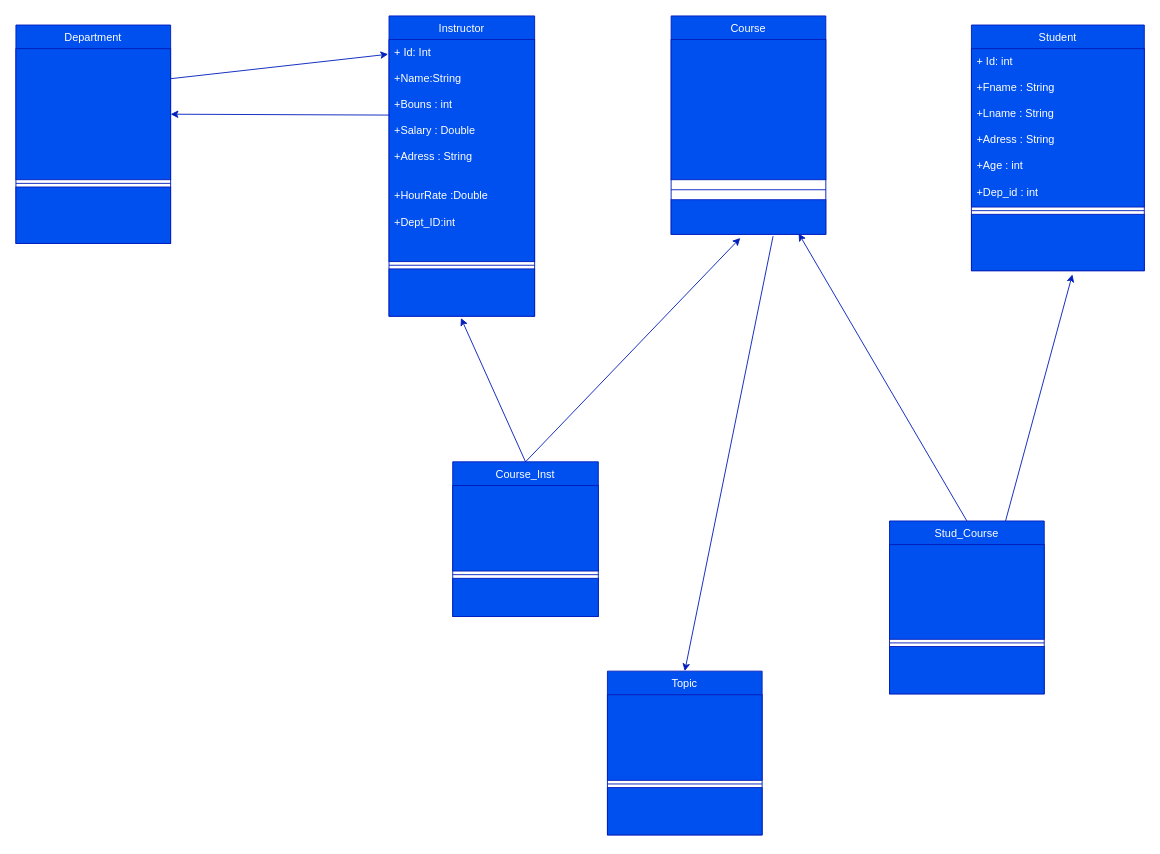
Image size: 1160x854. Some labels were removed from this diagram. Each missing label, with the centre of its shape:
+ Id : int +Duration : DateTime +Name:String +Description :String +Top_Id :int: the point at 748,109
+ Id: int +Name :String +HiringDate : DateTime +Ins_Id :Int: the point at 93,114
+ Id: int +Name:String: the point at 684,737
+ inst_ID : int +Course_ID : int + evaluate : int: the point at 525,528
+ stud_ID :int +Course_ID : int +Grade : int: the point at 966,591
